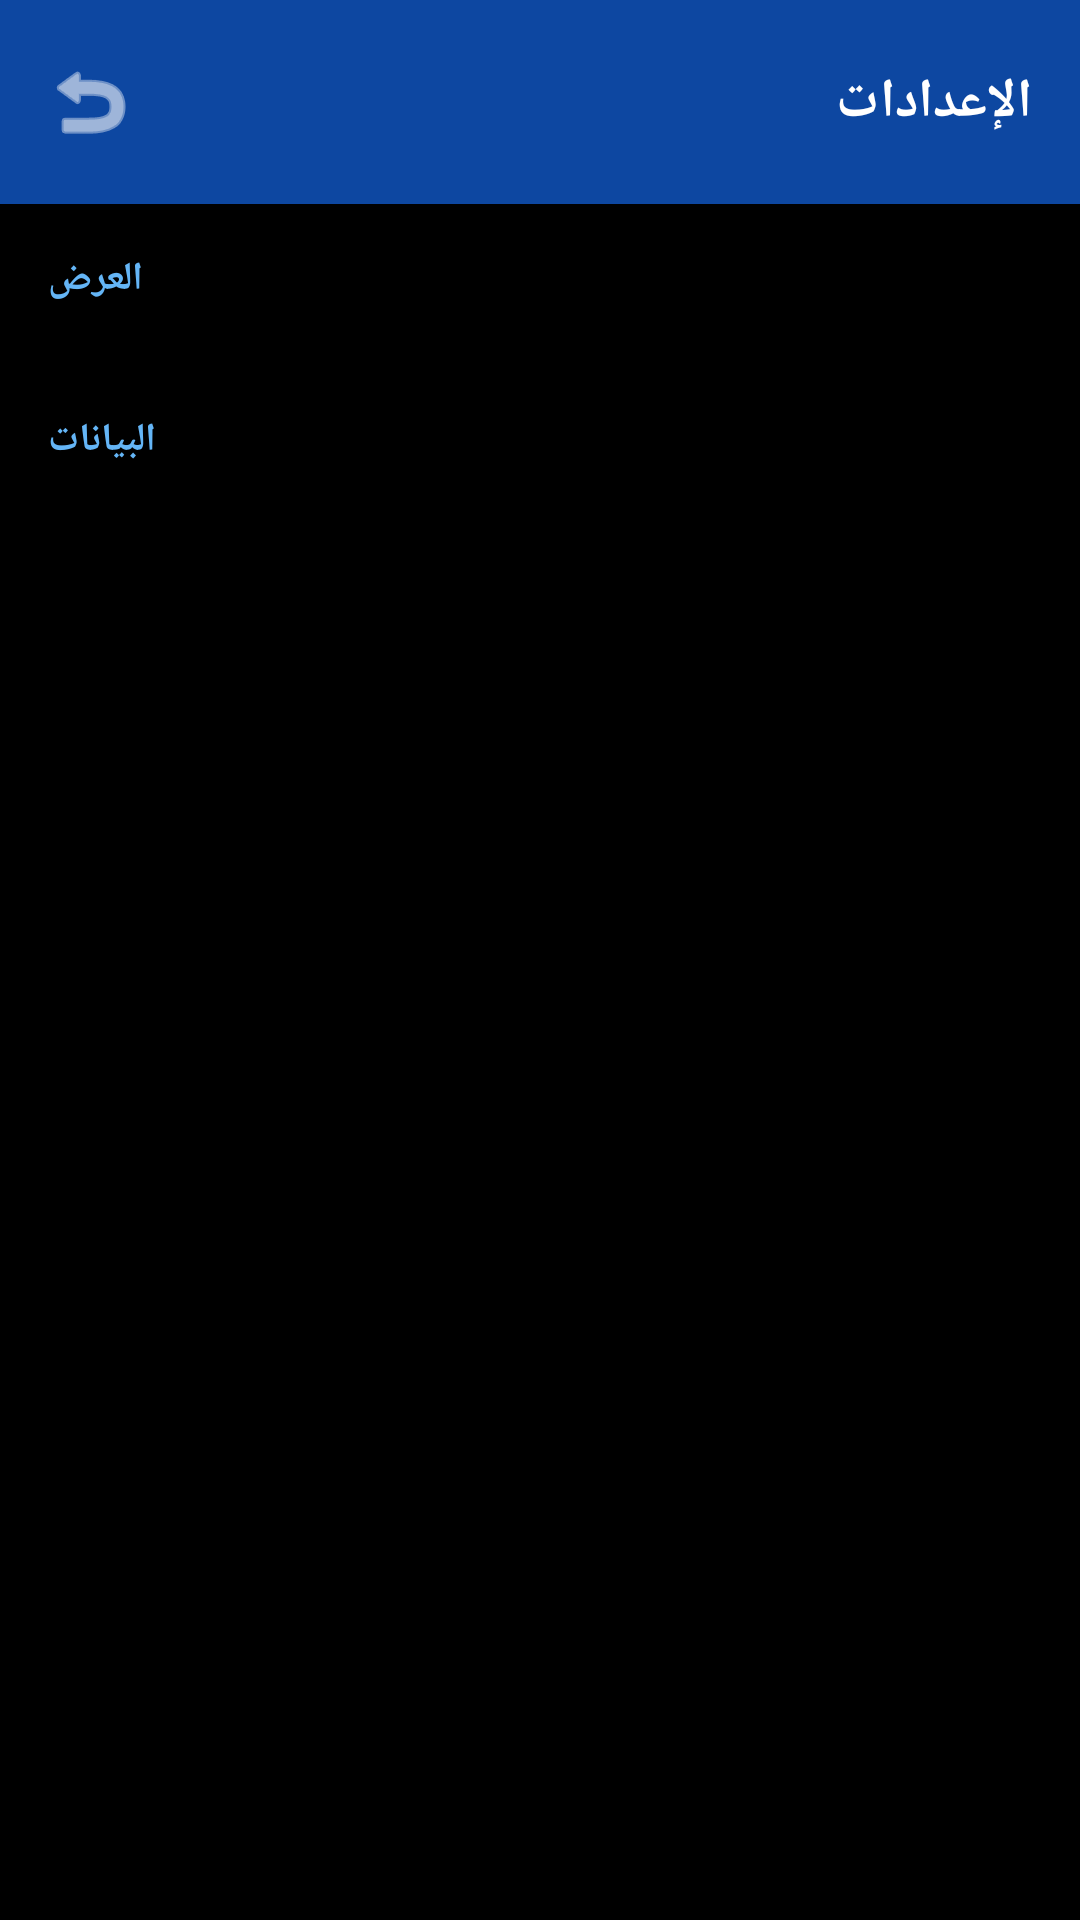

Screen size 1080×1920. Icon name, then its box in pixels as (x1, y1, x2, y2):
رجوع: (57, 71, 126, 134)
